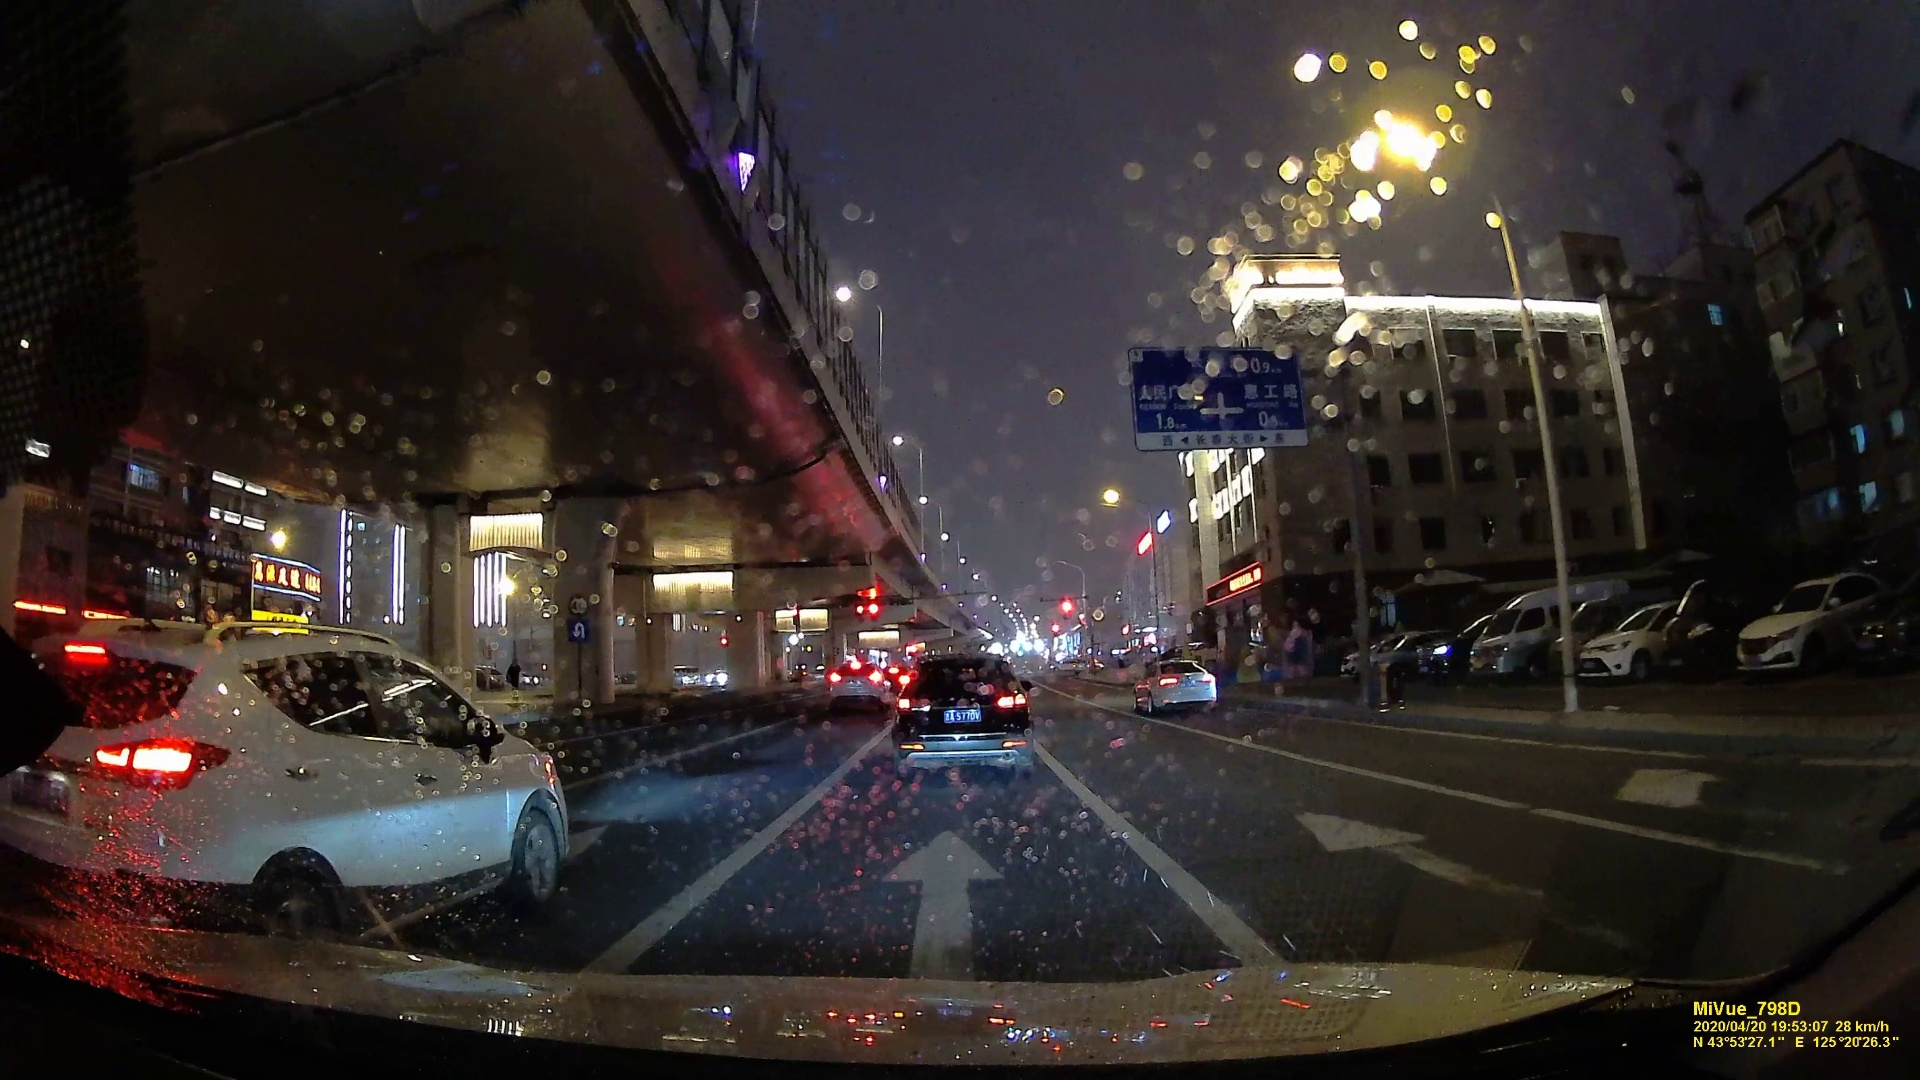minibus: (1468, 587, 1577, 680)
traffic_sign: (1131, 349, 1300, 443), (567, 618, 589, 641), (567, 595, 591, 616), (866, 600, 880, 625), (855, 600, 866, 626), (1062, 597, 1073, 620)
vehicle: (7, 618, 562, 928), (894, 653, 1033, 775), (1129, 659, 1213, 713), (828, 659, 887, 708)
